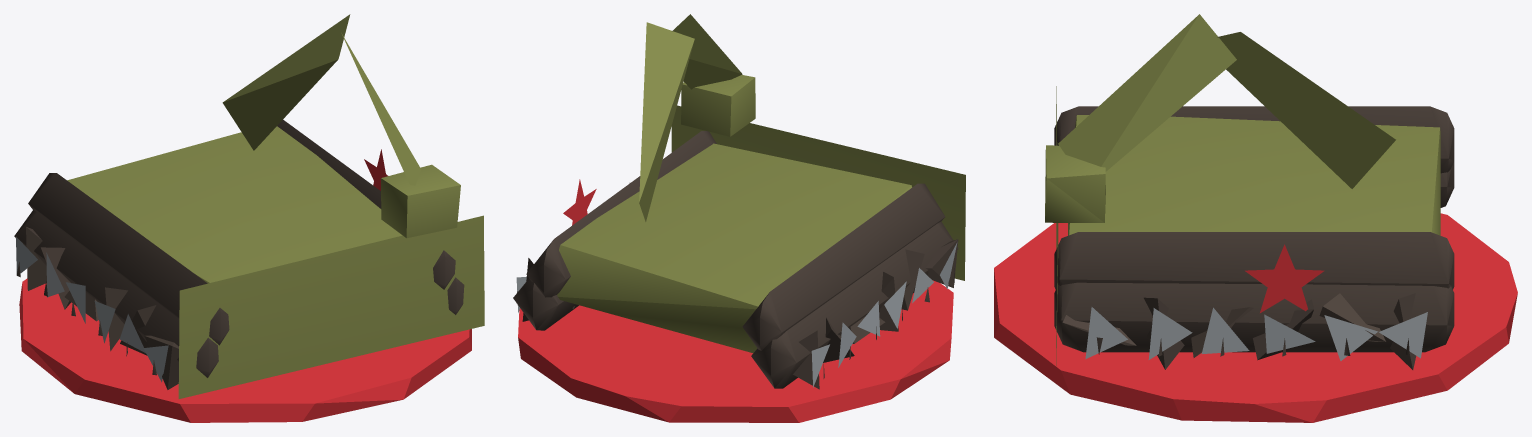
Rendered from soviet_union_engineer_lod1.glb.
3 renders of one model, left to right at view 1: azimuth 30°, elevation 25°; view 2: azimuth 150°, elevation 25°; view 3: azimuth 270°, elevation 25°, orthographic. The views are drawn at different scales.
Visible parts, largest first — view 1: body_hull, base_pedestal; view 2: body_hull, base_pedestal; view 3: body_hull, base_pedestal.
Part boxes in pixels (x1,y1,x2,y2): body_hull: (14, 14, 484, 398); base_pedestal: (19, 278, 471, 422); body_hull: (513, 14, 965, 389); base_pedestal: (518, 280, 953, 422); body_hull: (1045, 14, 1454, 369); base_pedestal: (994, 213, 1517, 422).
Bounding box in the file's own units: 0.7751 × 0.553 × 0.7751.
